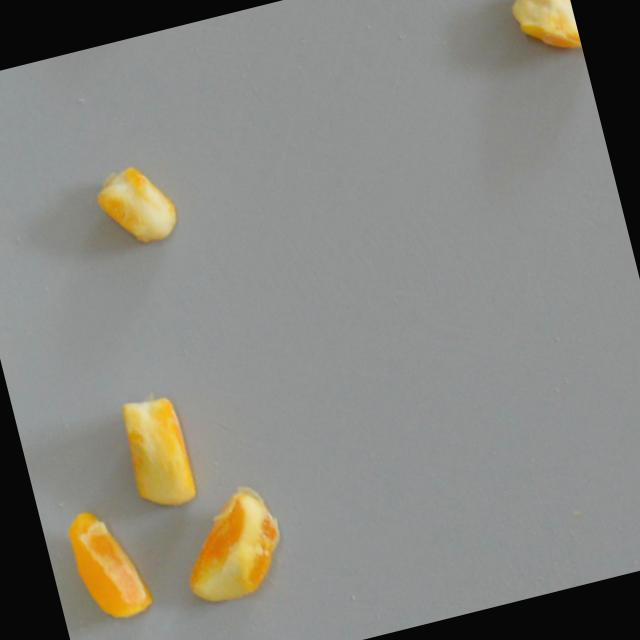pelicula: (164, 473, 298, 615), (58, 492, 160, 631), (111, 381, 203, 520), (88, 153, 183, 253), (506, 0, 584, 70)
